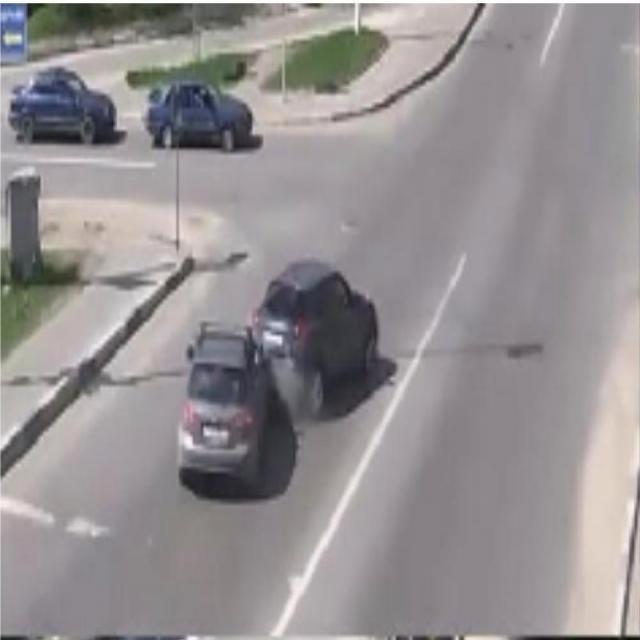multiple_accident: (146, 223, 414, 564), (161, 267, 391, 480)
